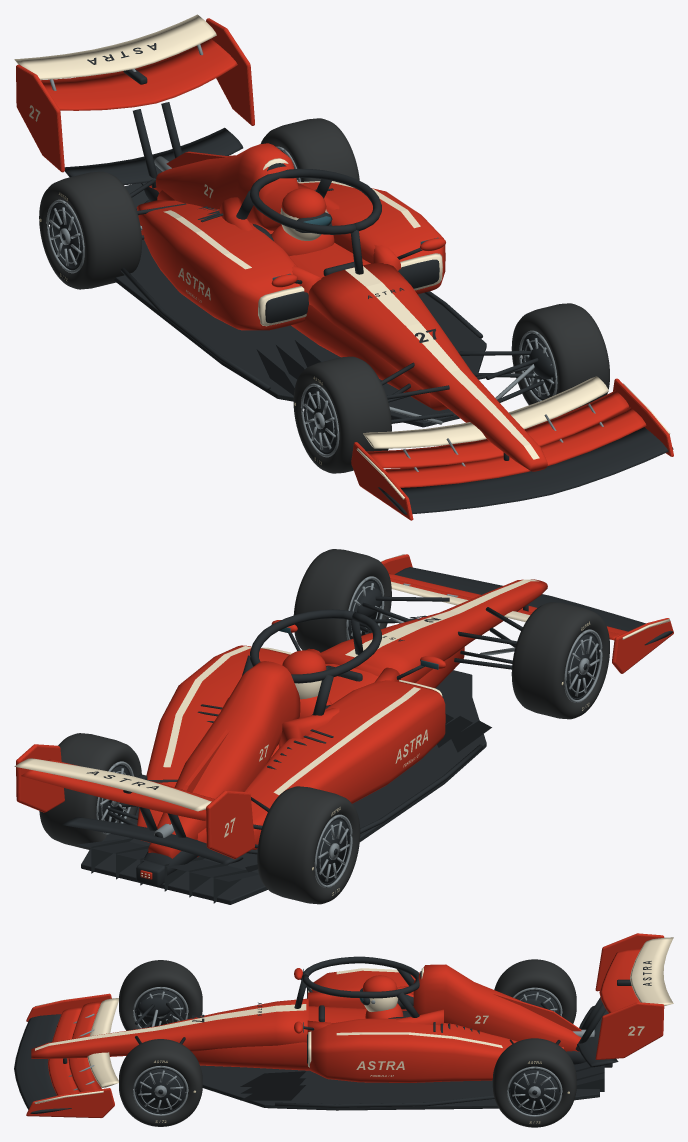
File: astra-formula.glb
3 views of the same model, one above another, from view 1: azimuth 30°, elevation 25°; view 2: azimuth 150°, elevation 25°; view 3: azimuth 270°, elevation 25° (orthographic). The views are drawn at different scales.
Parts seen in each view (by area): view 1: Astra_AF27_body, wheel_RL, wheel_FL, wheel_FR, wheel_RR, driver_head; view 2: Astra_AF27_body, wheel_RL, wheel_FL, wheel_FR, wheel_RR, driver_head; view 3: Astra_AF27_body, wheel_RR, wheel_FR, wheel_FL, wheel_RL, driver_head.
Part boxes in pixels (x1=…): Astra_AF27_body: x1=14, y1=14, x2=673, y2=520; wheel_RL: x1=39, y1=171, x2=141, y2=289; wheel_FL: x1=293, y1=356, x2=391, y2=473; wheel_FR: x1=511, y1=303, x2=609, y2=411; wheel_RR: x1=260, y1=118, x2=359, y2=181; driver_head: x1=280, y1=188, x2=332, y2=240; Astra_AF27_body: x1=14, y1=554, x2=673, y2=904; wheel_RL: x1=257, y1=786, x2=360, y2=904; wheel_FL: x1=511, y1=602, x2=609, y2=719; wheel_FR: x1=293, y1=549, x2=391, y2=652; wheel_RR: x1=39, y1=733, x2=141, y2=849; driver_head: x1=282, y1=650, x2=329, y2=699; Astra_AF27_body: x1=14, y1=933, x2=673, y2=1117; wheel_RR: x1=492, y1=1038, x2=576, y2=1127; wheel_FR: x1=119, y1=1039, x2=202, y2=1126; wheel_FL: x1=119, y1=960, x2=202, y2=1030; wheel_RL: x1=494, y1=959, x2=576, y2=1023; driver_head: x1=359, y1=975, x2=398, y2=1011.
Bounding box in the file's own units: 2.01 × 1.09 × 5.67.
